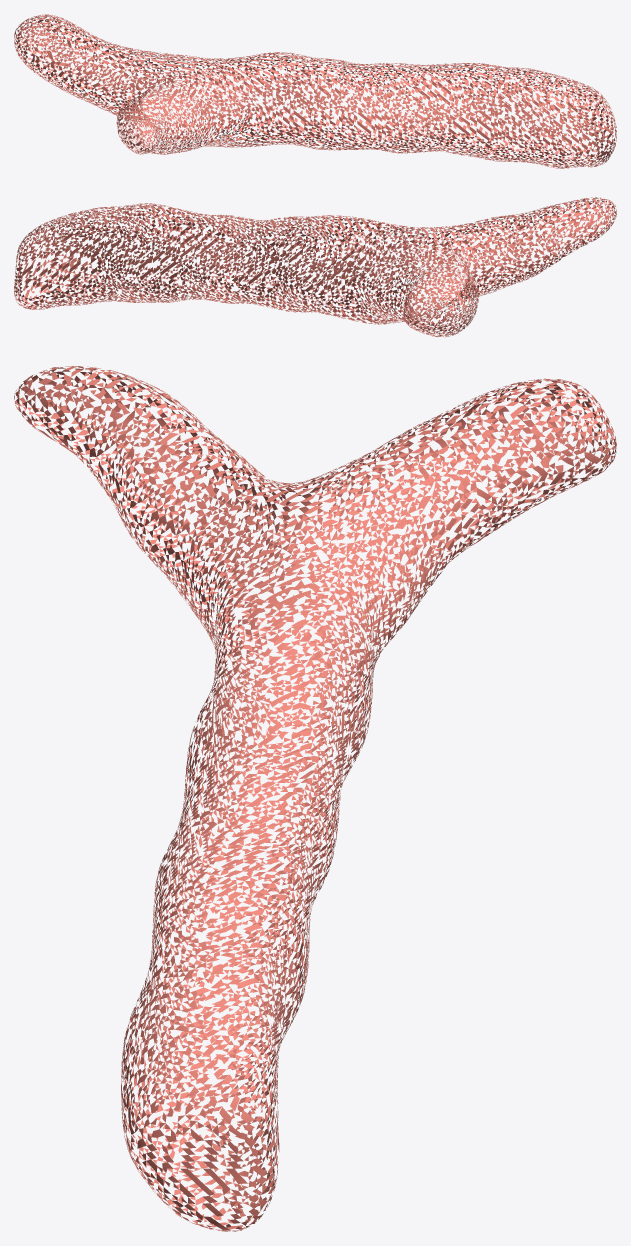
The model's file is diseased.glb.
The picture shows the model from 3 angles, top to bottom: view 1: azimuth 30°, elevation 25°; view 2: azimuth 150°, elevation 25°; view 3: azimuth 270°, elevation 25°; orthographic projection. The views are drawn at different scales.
Bounding box in the file's own units: 112 × 40.61 × 56.65.
